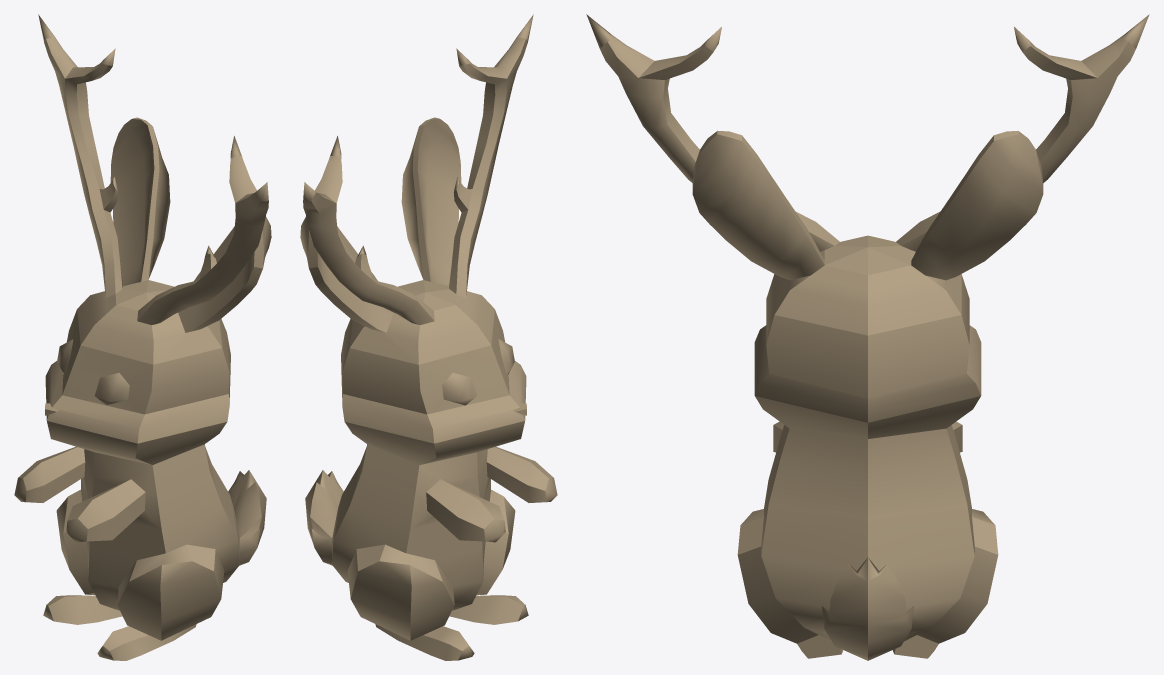
File: jackalope[wrapped].fbx
The picture shows the model from 3 angles, left to right: view 1: azimuth 30°, elevation 25°; view 2: azimuth 150°, elevation 25°; view 3: azimuth 270°, elevation 25°; orthographic projection. The views are drawn at different scales.
Visible parts, largest first — view 1: pSphere12; view 2: pSphere12; view 3: pSphere12.
Boxes of the visible parts, <box> form: pSphere12: <box>14,14,271,660</box>; pSphere12: <box>300,14,557,660</box>; pSphere12: <box>586,14,1149,660</box>.
Size of the model in its own units: 2.16 by 4.81 by 3.82.
